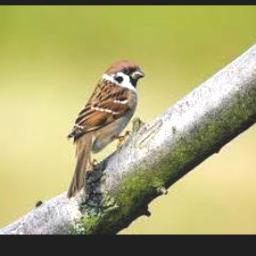Sparrow: (67, 61, 144, 198)
